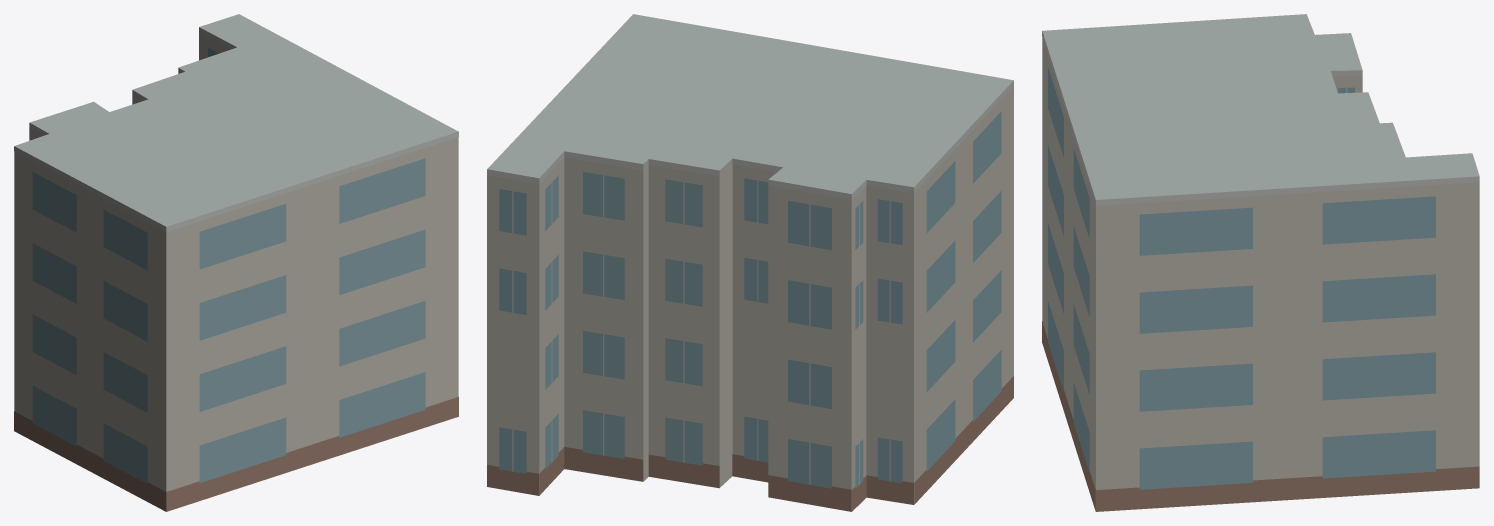
The model's file is survey-upis-32576993.glb.
3 views of the same model, side by side, from view 1: azimuth 30°, elevation 25°; view 2: azimuth 150°, elevation 25°; view 3: azimuth 270°, elevation 25° (orthographic). The views are drawn at different scales.
Visible parts, largest first — view 1: survey-upis-32576993.tmp; view 2: survey-upis-32576993.tmp; view 3: survey-upis-32576993.tmp.
Boxes of the visible parts, <box> form: survey-upis-32576993.tmp: <box>14,14,458,511</box>; survey-upis-32576993.tmp: <box>487,14,1013,511</box>; survey-upis-32576993.tmp: <box>1042,14,1479,511</box>.
Bounding box in the file's own units: 16.89 × 13.2 × 16.79.
